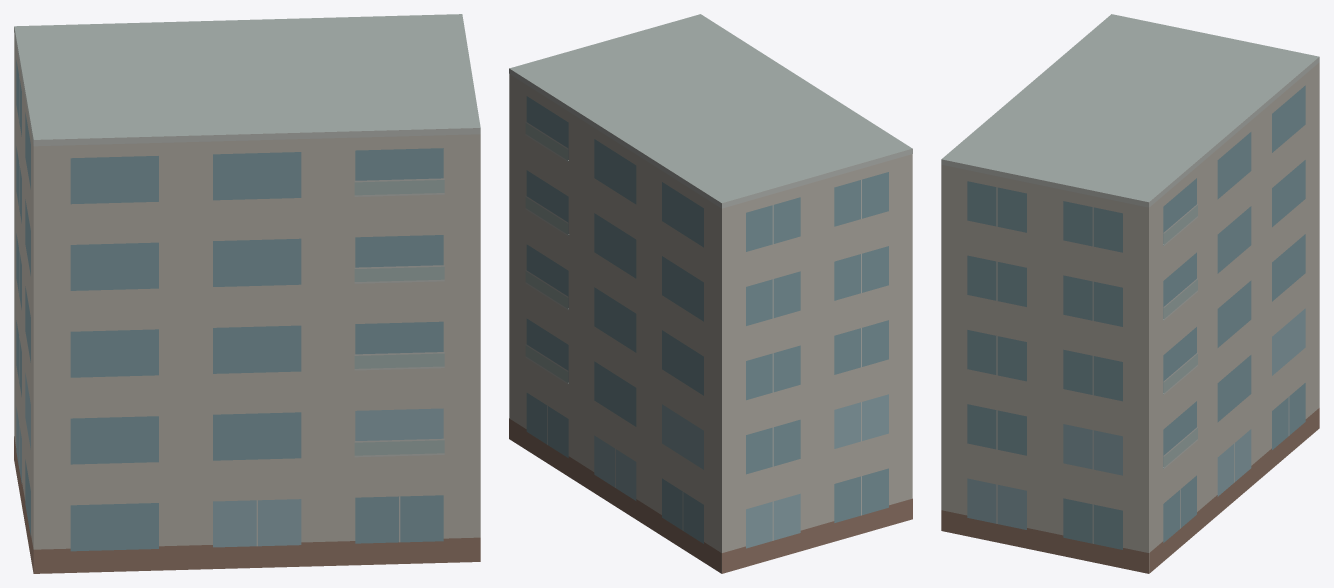
File: survey-upis-32946181.glb
The picture shows the model from 3 angles, left to right: view 1: azimuth 30°, elevation 25°; view 2: azimuth 150°, elevation 25°; view 3: azimuth 270°, elevation 25°; orthographic projection. The views are drawn at different scales.
Visible parts, largest first — view 1: survey-upis-32946181.tmp; view 2: survey-upis-32946181.tmp; view 3: survey-upis-32946181.tmp.
Part boxes in pixels (box(x1,y1,x2,y2)): survey-upis-32946181.tmp: box(14, 14, 480, 573); survey-upis-32946181.tmp: box(509, 14, 912, 573); survey-upis-32946181.tmp: box(941, 14, 1319, 573).
Size of the model in its own units: 18.27 by 16.8 by 15.51.
